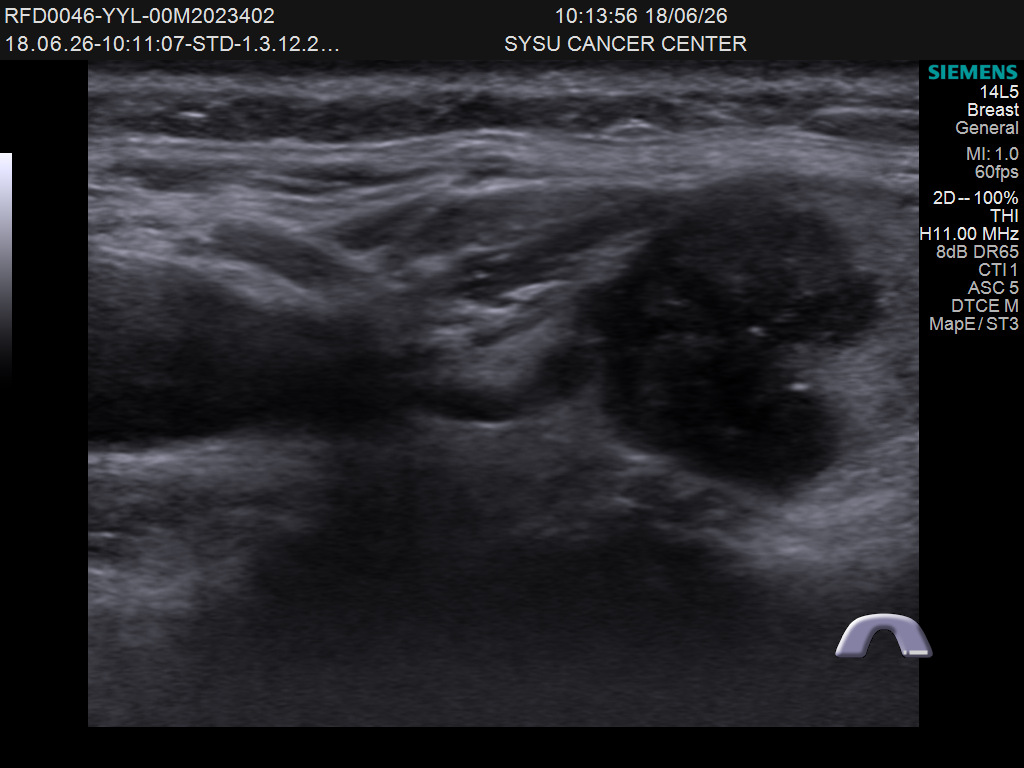Thyroid_tumor: (579, 157, 900, 519)
